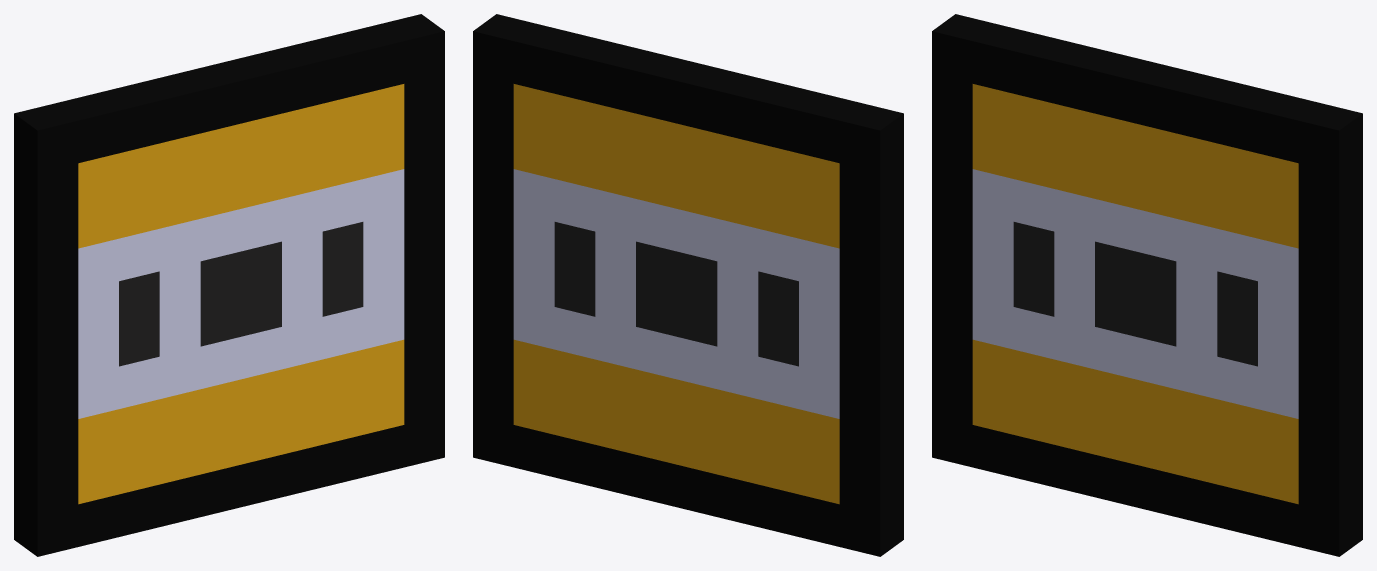
The model's file is Yellow Paintball Explosive Item.glb.
3 views of the same model, side by side, from view 1: azimuth 30°, elevation 25°; view 2: azimuth 150°, elevation 25°; view 3: azimuth 330°, elevation 25° (orthographic).
Parts seen in each view (by area): view 1: generated; view 2: generated; view 3: generated.
Boxes of the visible parts, x1=… form: generated: x1=14, y1=14, x2=444, y2=556; generated: x1=473, y1=14, x2=903, y2=556; generated: x1=932, y1=14, x2=1362, y2=556.
Size of the model in its own units: 10 by 10 by 1.
Materials: 1 (1 with a texture image).
